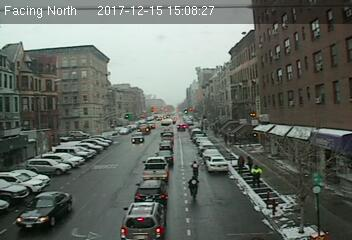bicycle: (188, 175, 200, 201), (190, 161, 201, 177)
car: (13, 190, 72, 228), (121, 201, 167, 239), (133, 179, 169, 200), (142, 157, 170, 177), (205, 156, 228, 172), (154, 149, 174, 166), (130, 131, 144, 144), (158, 140, 172, 149), (176, 124, 186, 130)
pedestrian: (251, 163, 261, 188), (237, 154, 244, 175)
